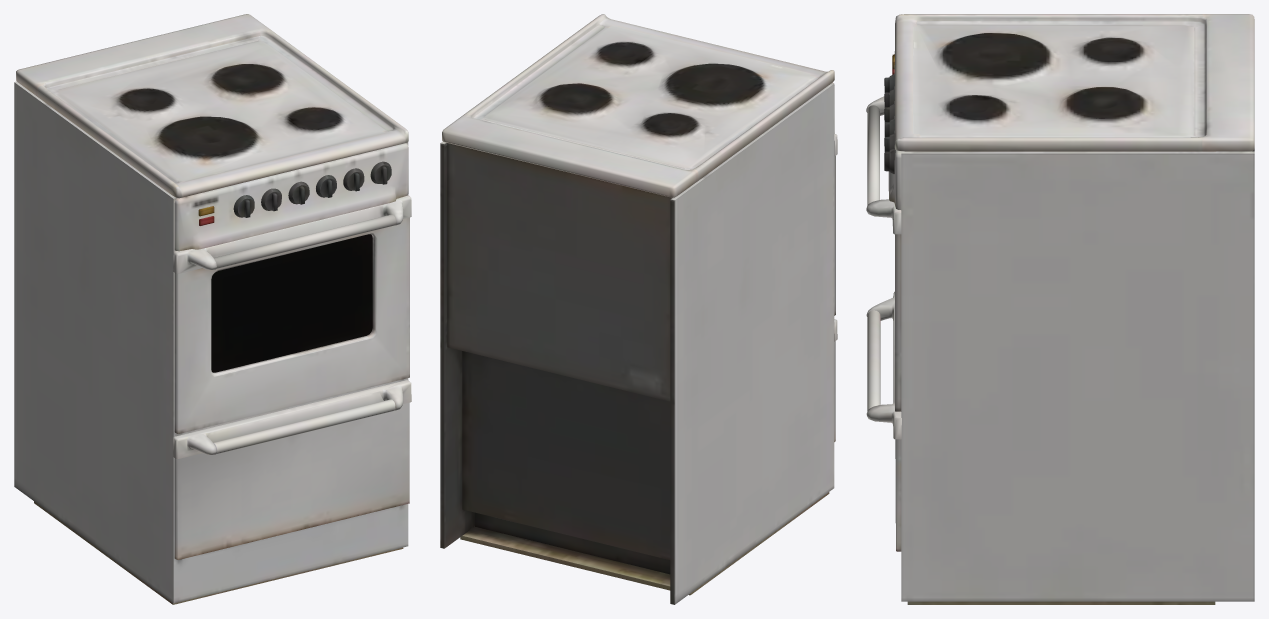
The model's file is electric_stove.glb.
3 renders of one model, left to right at view 1: azimuth 30°, elevation 25°; view 2: azimuth 150°, elevation 25°; view 3: azimuth 270°, elevation 25°, orthographic. The views are drawn at different scales.
Visible parts, largest first — view 1: stovetop, door_top; view 2: stovetop; view 3: stovetop.
Boxes of the visible parts, x1,y1,x2,y2 form: stovetop: (14, 14, 411, 604); door_top: (211, 234, 372, 372); stovetop: (440, 14, 837, 604); stovetop: (866, 14, 1254, 604).
Bounding box in the file's own units: 0.5026 × 0.8587 × 0.6477.
2 materials, 2 textured.
